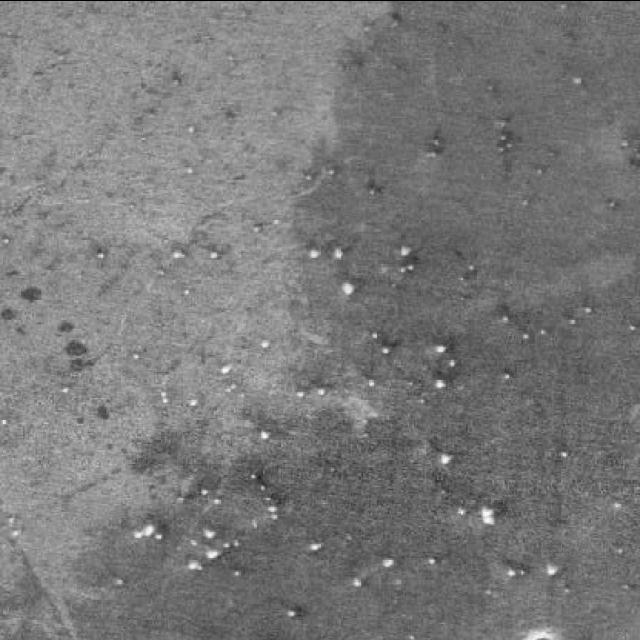crater: (342, 279, 358, 295)
